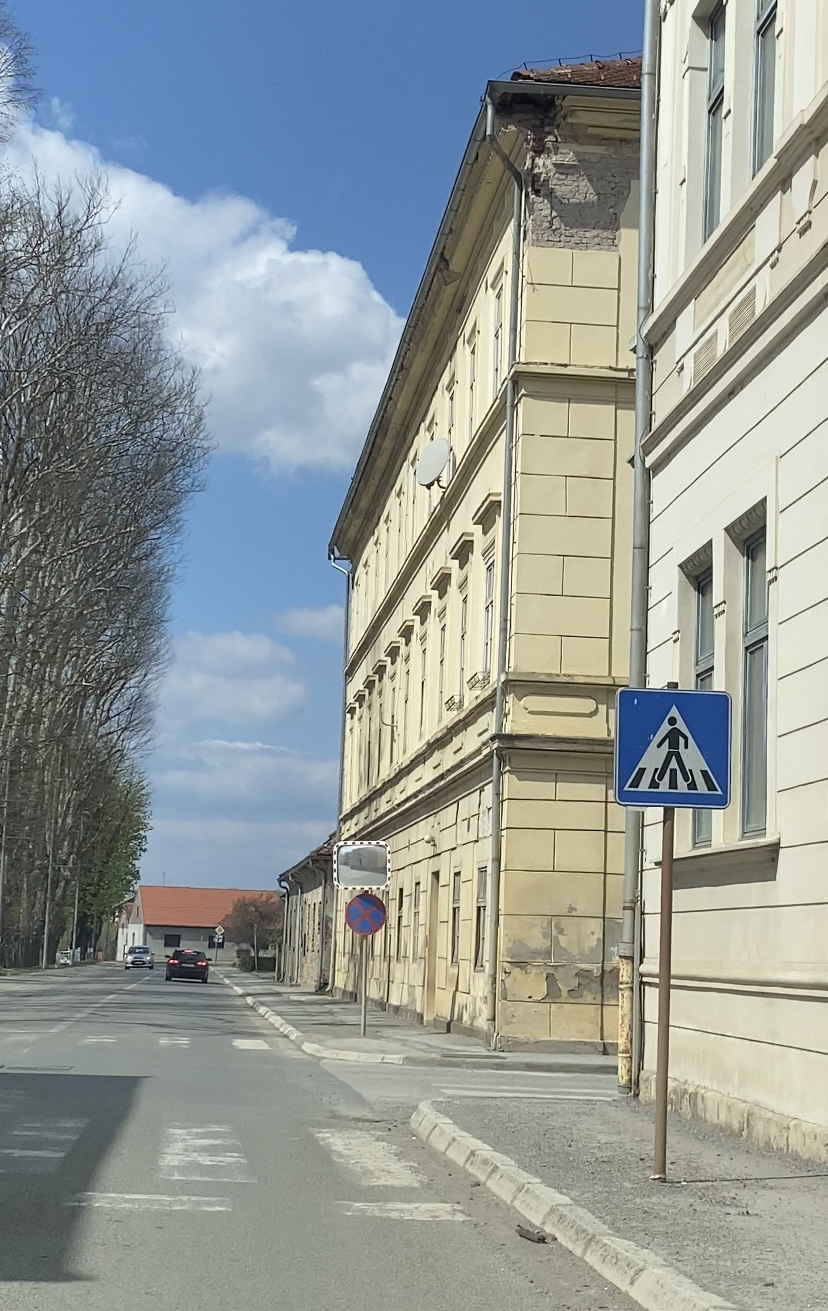Pješački prijelaz: (615, 686, 731, 810)
